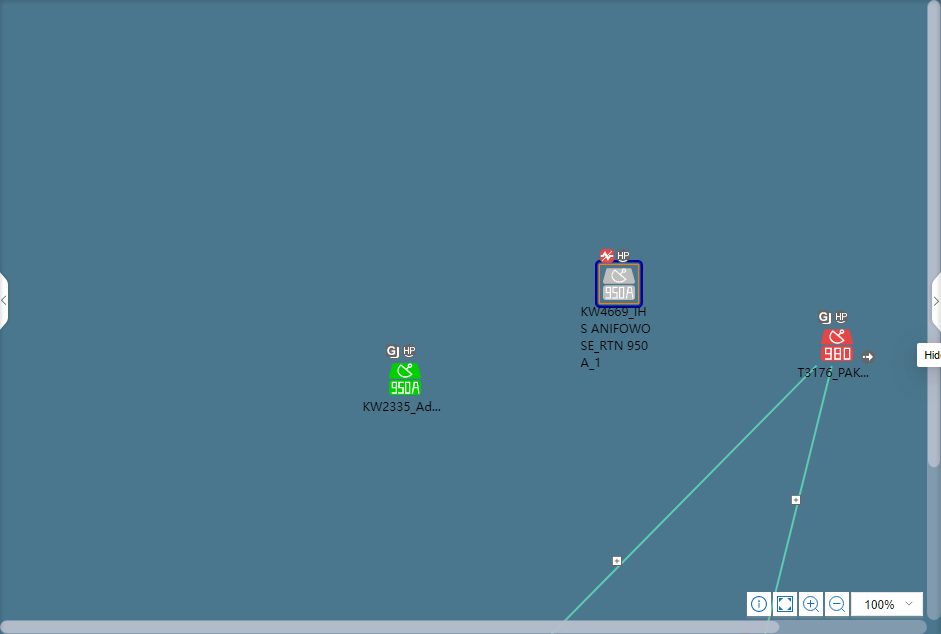Link_Blue: (564, 365, 818, 620), (774, 366, 833, 592)
RTN_Gray: (601, 267, 635, 302)
RTN_Green: (388, 364, 420, 395)
RTN_Red: (821, 330, 852, 362)
